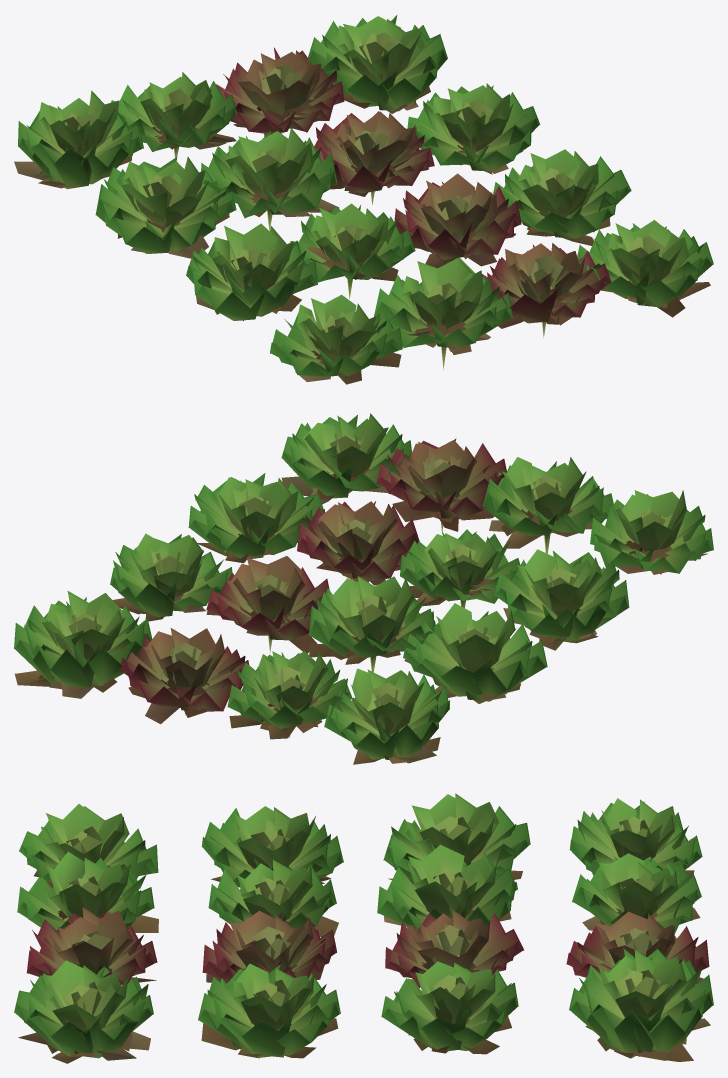
File: crop_lettuce.glb
The picture shows the model from 3 angles, top to bottom: view 1: azimuth 30°, elevation 25°; view 2: azimuth 150°, elevation 25°; view 3: azimuth 270°, elevation 25°; orthographic projection. The views are drawn at different scales.
Visible parts, largest first — view 1: plants_mesh, plants_dead_mesh; view 2: plants_mesh, plants_dead_mesh; view 3: plants_mesh, plants_dead_mesh.
Boxes of the visible parts, bbox=[...] form: plants_mesh: bbox=[18, 15, 713, 376]; plants_dead_mesh: bbox=[14, 86, 710, 384]; plants_mesh: bbox=[14, 413, 713, 759]; plants_dead_mesh: bbox=[14, 468, 708, 764]; plants_mesh: bbox=[14, 793, 713, 1058]; plants_dead_mesh: bbox=[18, 863, 710, 1063].
Size of the model in its own units: 1.23 by 0.2756 by 1.68.
